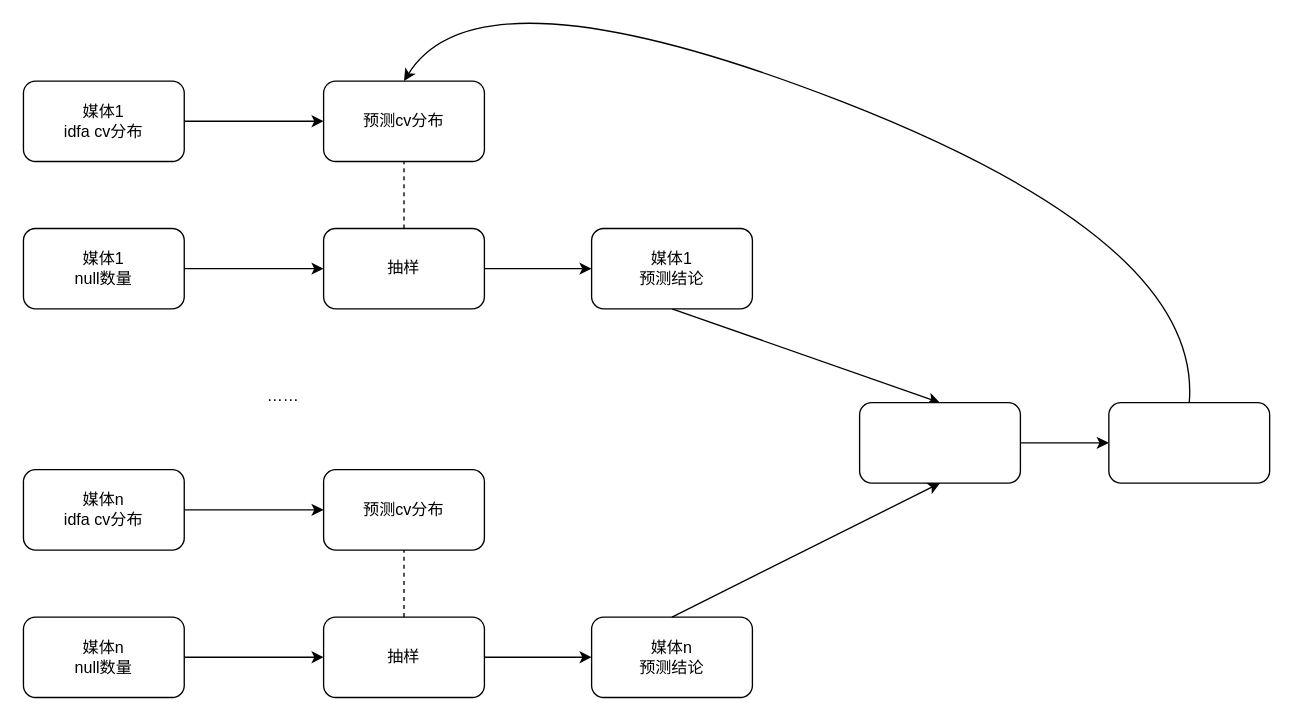
This 1293x722 diagram has some shape labels left out. The shapes that lost their labels are listed below. From the top down, each one's centre as x and y in pixels, then its label:
the point at 939,442: 预测 汇总
the point at 1189,442: loss
